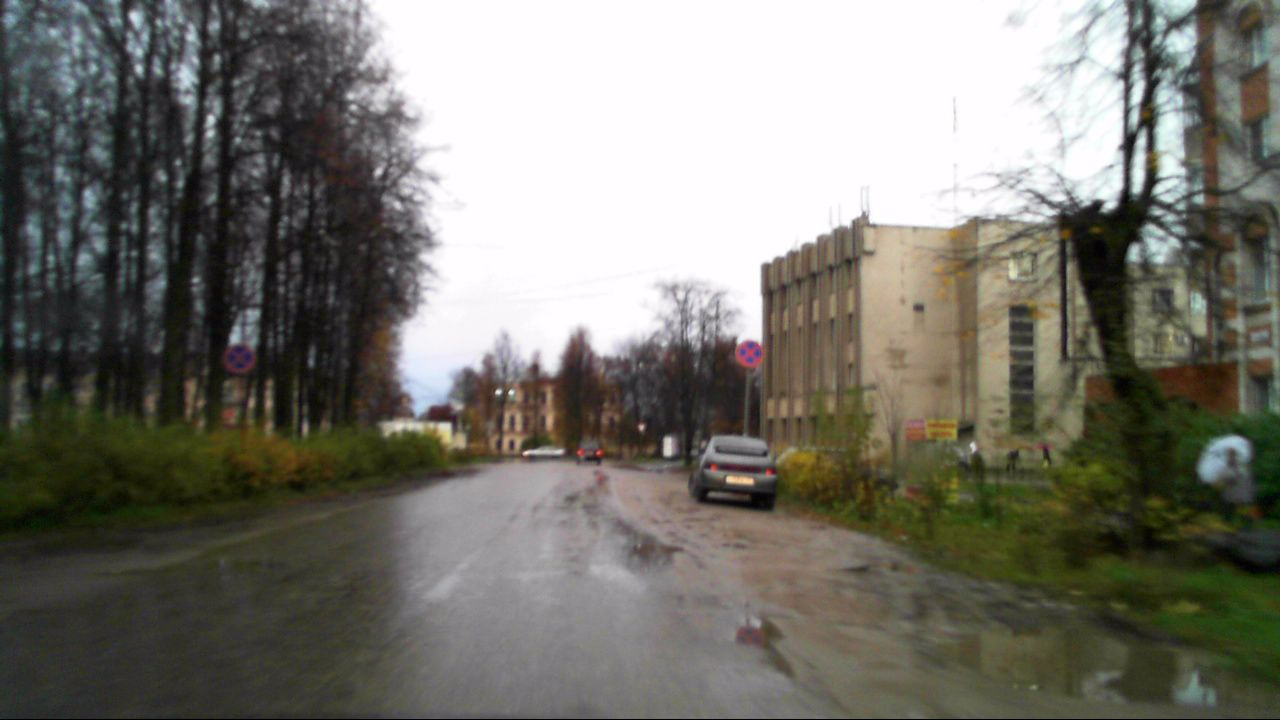No Parking: (734, 340, 764, 369)
